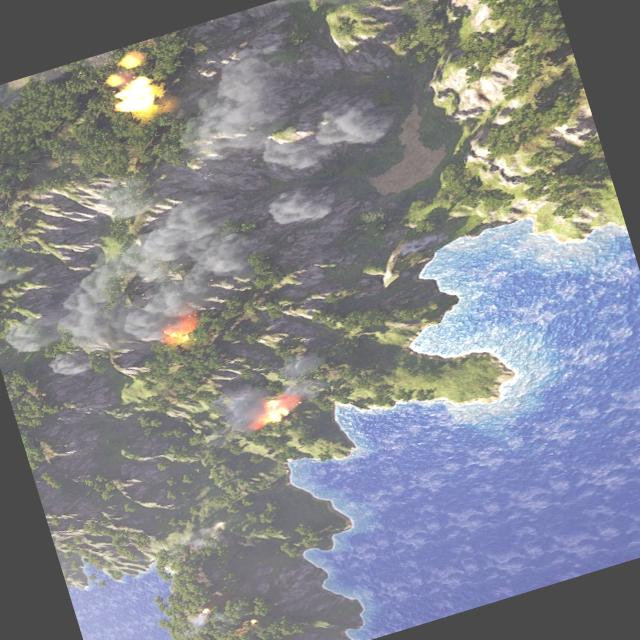fire: (106, 69, 162, 118), (157, 313, 205, 350), (255, 392, 291, 426), (114, 46, 145, 70), (102, 68, 127, 88), (235, 616, 260, 632), (198, 604, 212, 614), (215, 518, 225, 524)
smoke: (0, 17, 427, 392), (193, 342, 339, 444), (178, 514, 234, 550), (178, 602, 222, 634)
